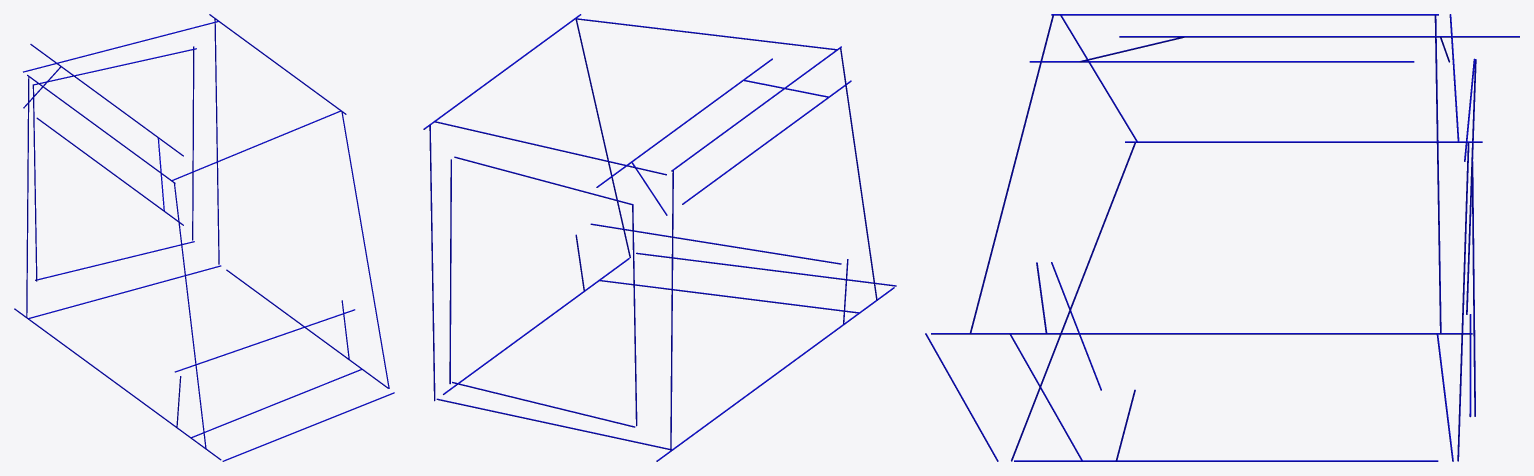
File: corrected_3d_strokes.glb
3 views of the same model, side by side, from view 1: azimuth 30°, elevation 25°; view 2: azimuth 150°, elevation 25°; view 3: azimuth 270°, elevation 25° (orthographic). The views are drawn at different scales.
Parts seen in each view (by area): view 1: world; view 2: world; view 3: world.
Boxes of the visible parts, <box> form: world: <box>14,14,394,461</box>; world: <box>423,14,896,461</box>; world: <box>925,14,1519,461</box>.
Bounding box in the file's own units: 6.99 × 8.16 × 13.72.
